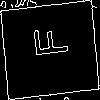F: (25, 24, 69, 60)
